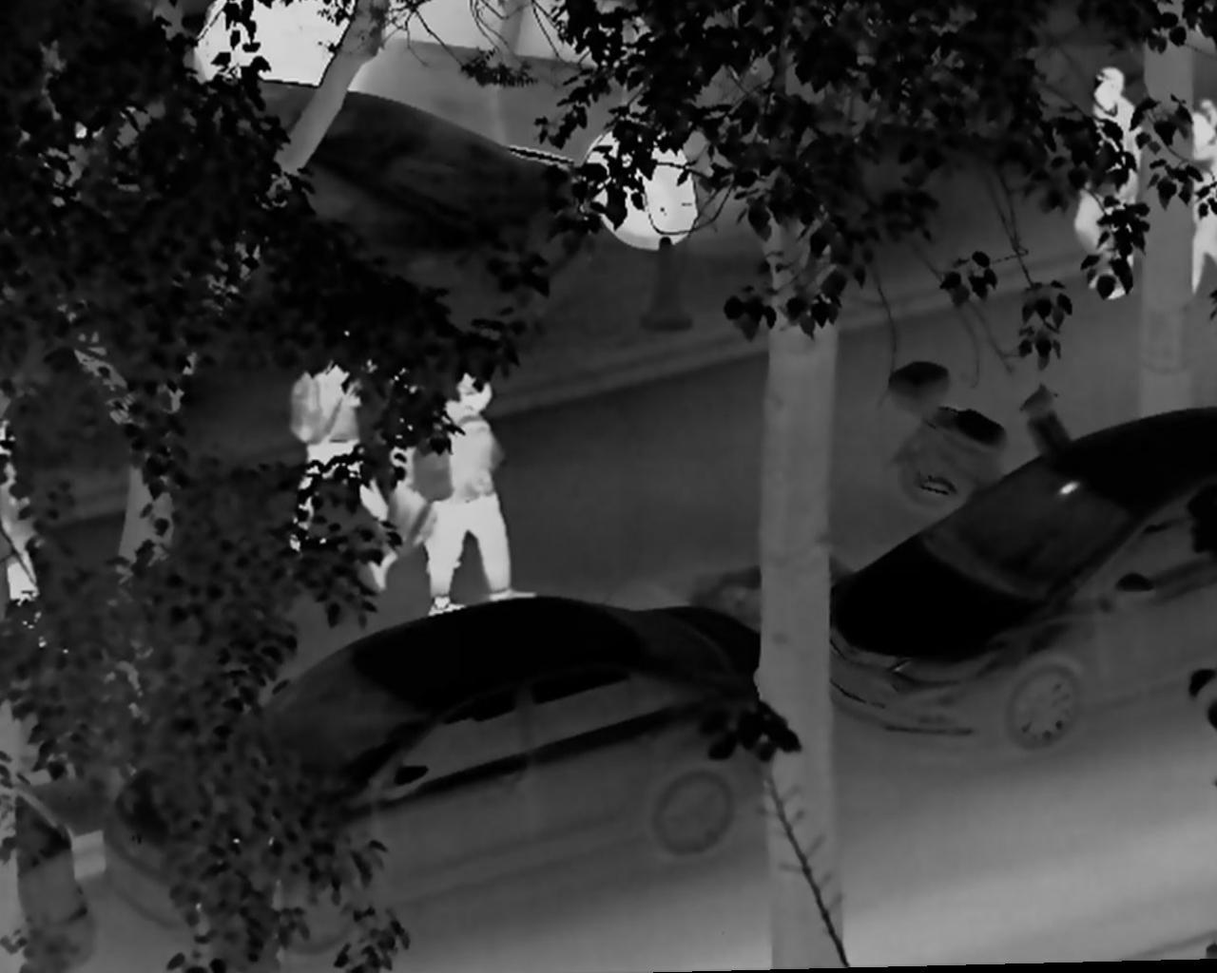person: (415, 368, 538, 620), (280, 310, 400, 556), (352, 340, 435, 587), (1070, 62, 1148, 301), (1178, 91, 1217, 305)
